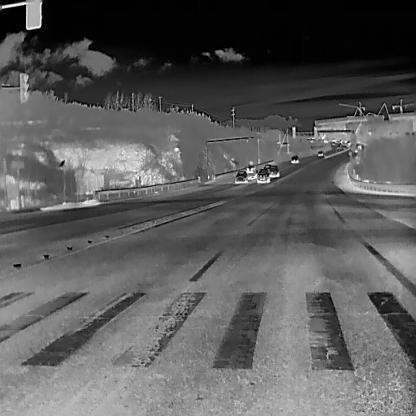car: (255, 168, 270, 184), (244, 165, 259, 180), (234, 171, 248, 183), (268, 165, 279, 177), (263, 163, 272, 173), (290, 155, 299, 164), (323, 136, 329, 143), (317, 150, 323, 156), (353, 147, 358, 153), (342, 145, 347, 150), (336, 144, 341, 149), (357, 144, 362, 149), (347, 140, 351, 145), (338, 138, 343, 142), (331, 141, 335, 145), (343, 139, 347, 143), (330, 138, 334, 142), (339, 142, 342, 147)
